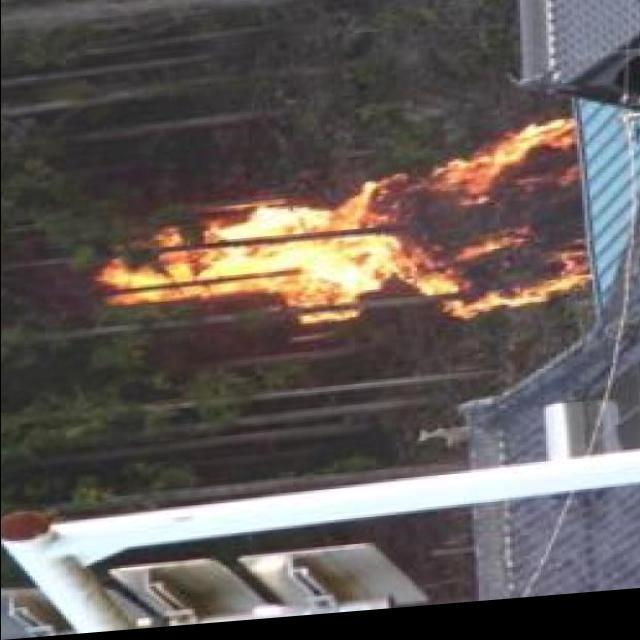fire: (91, 137, 585, 355)
